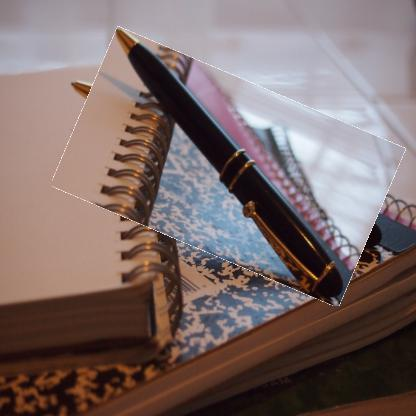Pen: (61, 53, 396, 280)
